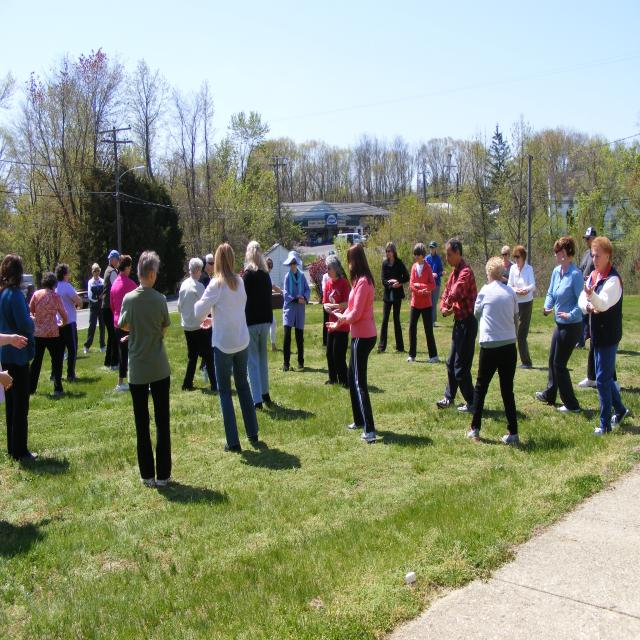body: (192, 241, 260, 454), (115, 248, 173, 489), (466, 255, 523, 448), (324, 242, 378, 444), (577, 235, 630, 437), (534, 234, 586, 415), (0, 252, 38, 464), (436, 236, 481, 414), (578, 242, 622, 394), (235, 395, 314, 473), (242, 240, 274, 412), (177, 257, 217, 392), (28, 271, 69, 397), (48, 262, 84, 384), (503, 242, 536, 370), (406, 242, 440, 364), (322, 254, 351, 390), (376, 240, 410, 355), (110, 254, 138, 392), (281, 249, 312, 373), (321, 254, 350, 348), (82, 261, 108, 355), (101, 249, 121, 371), (422, 240, 448, 328), (0, 330, 28, 409), (198, 252, 215, 372), (321, 258, 342, 348), (264, 257, 284, 351), (577, 226, 598, 281), (500, 245, 516, 286), (62, 343, 70, 361)
